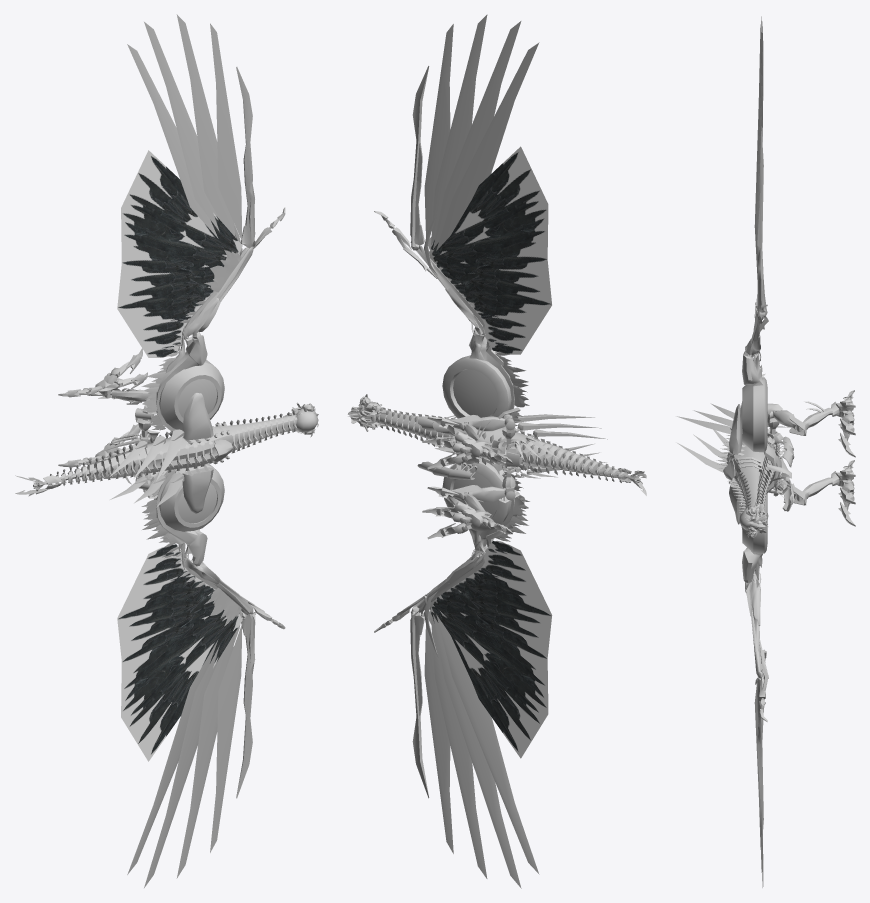
Rendered from VH-LaserBeak.obj.
The picture shows the model from 3 angles, left to right: view 1: azimuth 30°, elevation 25°; view 2: azimuth 150°, elevation 25°; view 3: azimuth 270°, elevation 25°; orthographic projection.
Parts seen in each view (by area): view 1: C_Reference_XR; view 2: C_Reference_XR; view 3: C_Reference_XR.
Boxes of the visible parts, x1,y1,x2,y2 form: C_Reference_XR: (15, 14, 318, 887); C_Reference_XR: (348, 14, 646, 888); C_Reference_XR: (676, 16, 855, 887).
Size of the model in its own units: 84.35 by 233 by 44.38.
